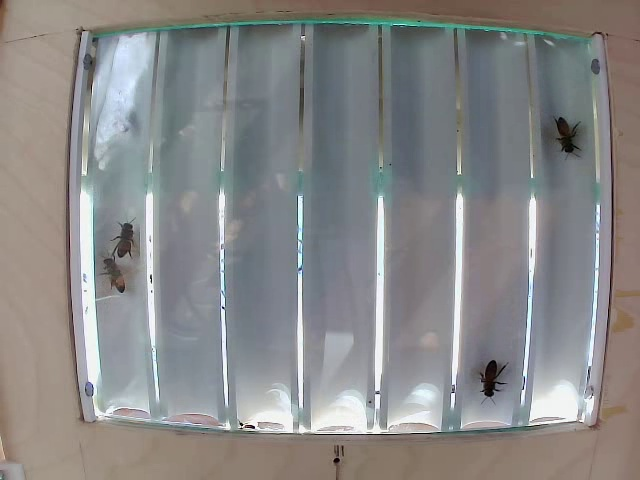bee: (555, 104, 592, 159), (116, 221, 146, 262), (88, 255, 126, 285), (481, 341, 503, 387)
